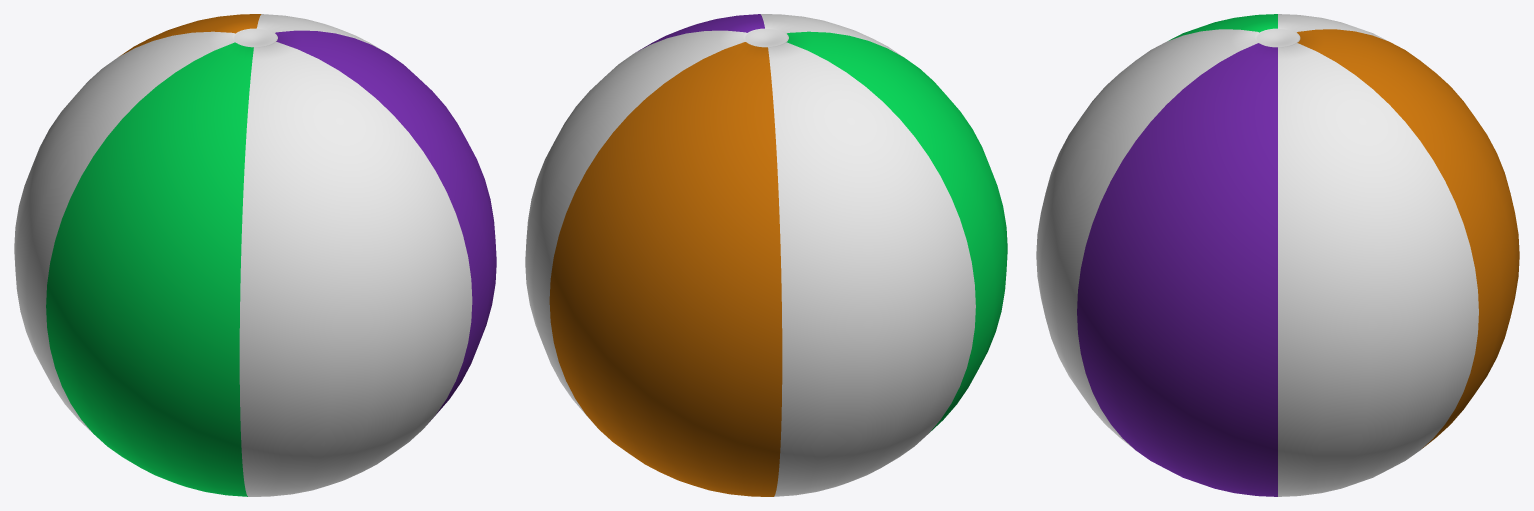
Rendered from BeachBall_Green.fbx.
3 views of the same model, side by side, from view 1: azimuth 30°, elevation 25°; view 2: azimuth 150°, elevation 25°; view 3: azimuth 270°, elevation 25° (orthographic).
Visible parts, largest first — view 1: Sphere_red_0; view 2: Sphere_red_0; view 3: Sphere_red_0.
Boxes of the visible parts, x1,y1,x2,y2 form: Sphere_red_0: [14, 14, 496, 496]; Sphere_red_0: [525, 14, 1007, 496]; Sphere_red_0: [1036, 14, 1519, 496].
Size of the model in its own units: 200 by 199 by 200.
